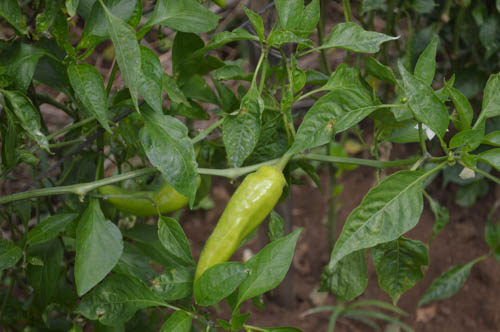ChiliPepper: (192, 165, 284, 298), (94, 174, 200, 216)
